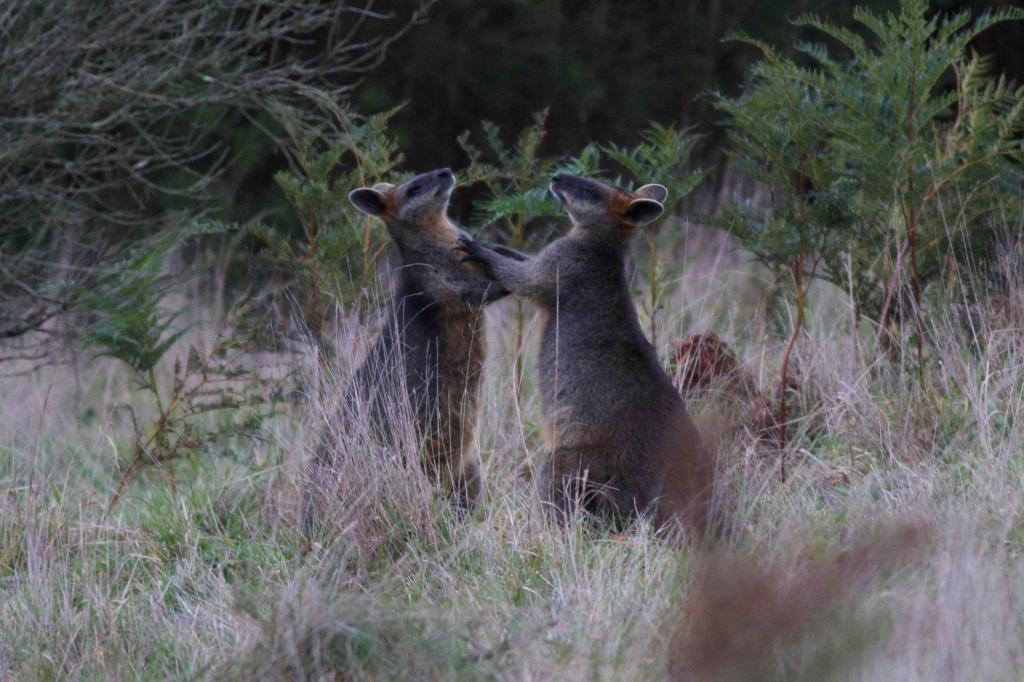kangaroo: (450, 168, 714, 550), (294, 167, 524, 576)
